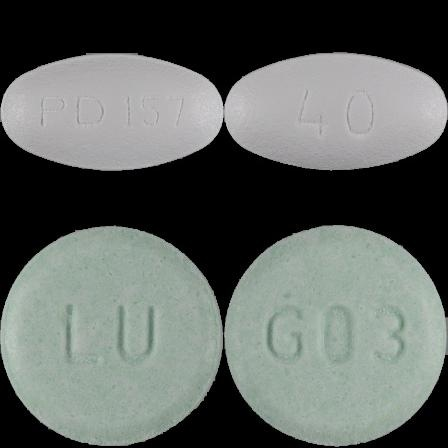49999-468: (0, 0, 224, 224)
